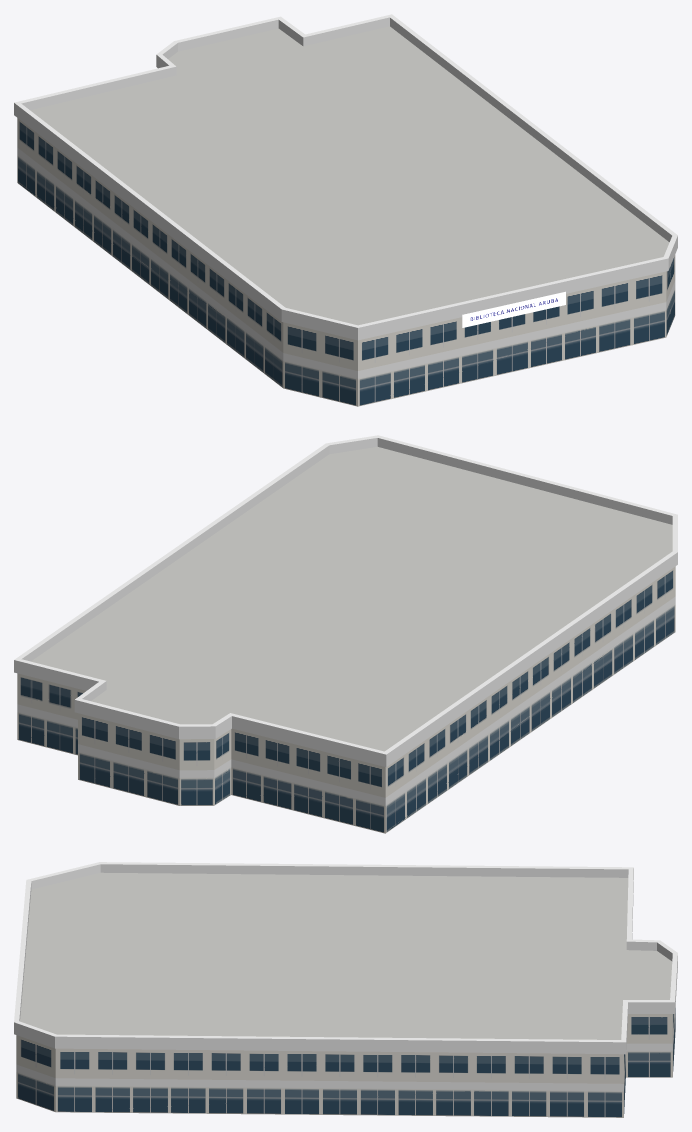
The model's file is biblioteca_nacional.glb.
3 views of the same model, one above another, from view 1: azimuth 30°, elevation 25°; view 2: azimuth 150°, elevation 25°; view 3: azimuth 270°, elevation 25° (orthographic). The views are drawn at different scales.
Parts seen in each view (by area): view 1: biblioteca_nacional_lod0; view 2: biblioteca_nacional_lod0; view 3: biblioteca_nacional_lod0.
Part boxes in pixels (x1=…): biblioteca_nacional_lod0: x1=14, y1=14, x2=677, y2=406; biblioteca_nacional_lod0: x1=14, y1=435, x2=677, y2=833; biblioteca_nacional_lod0: x1=14, y1=862, x2=677, y2=1117.
Size of what is drawn, in the model's own units: 45.41 by 9 by 70.71.
5 materials, 3 textured.
